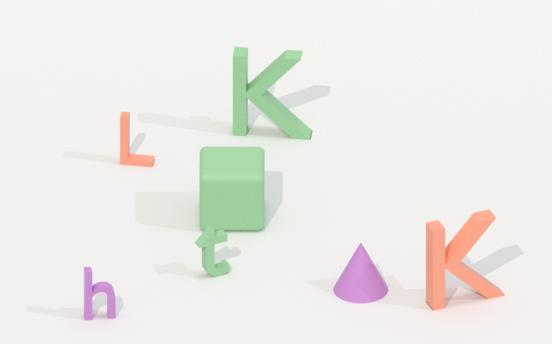h: (79, 263, 118, 324)
hop: (196, 141, 268, 236)
k: (421, 206, 508, 313), (230, 44, 316, 144)
l: (113, 108, 158, 175)
non: (331, 239, 391, 305)
t: (189, 224, 237, 281)
